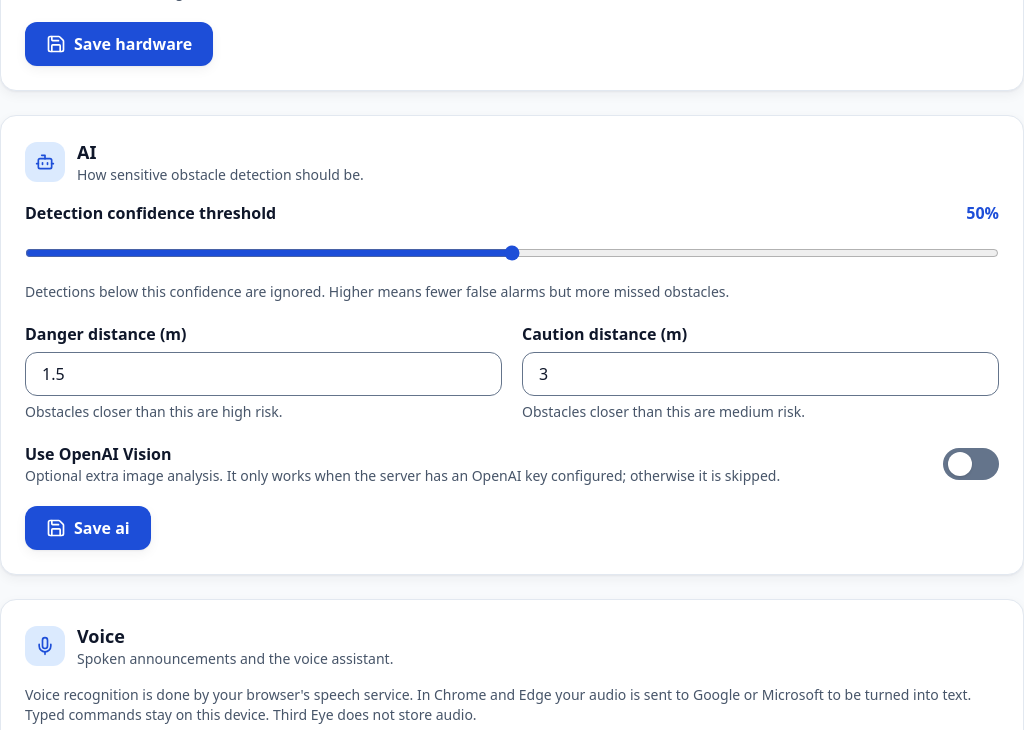
it: Settings page › ai: the rule and the message agree (danger 0.1 to 20 m, caution above danger)
(page scrolled)
Replace the text in the field labelled "Danger distance (m)" with "0.05" at (264, 374), box [25,352,502,396]
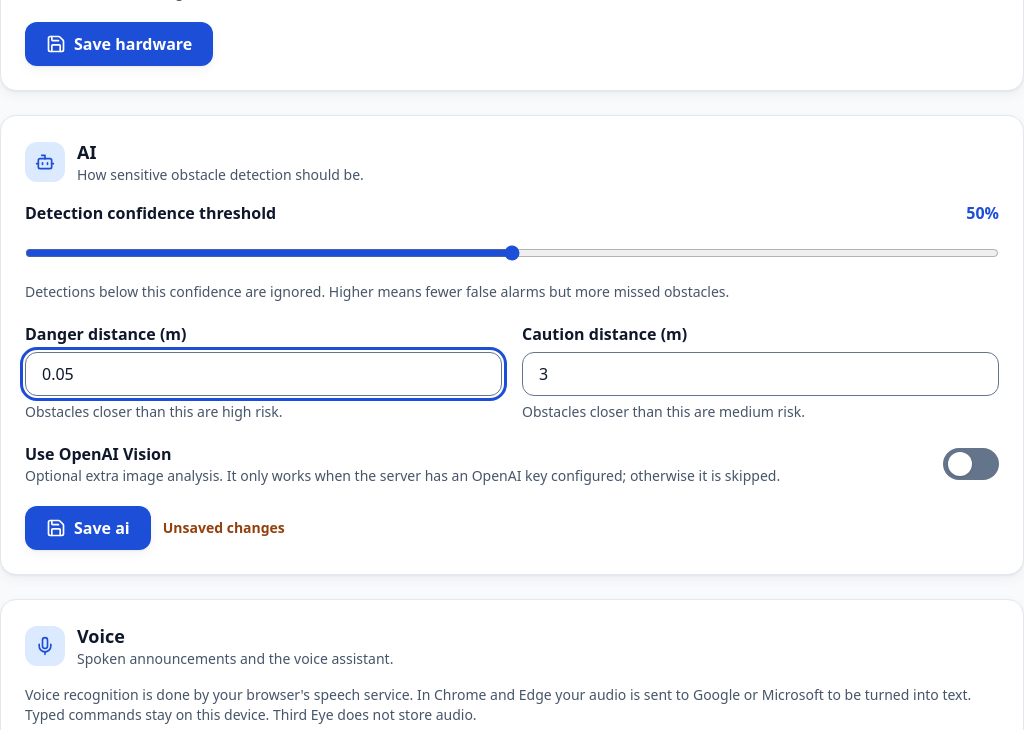
Click the button "Save ai" at (88, 528), box [25,506,151,550]
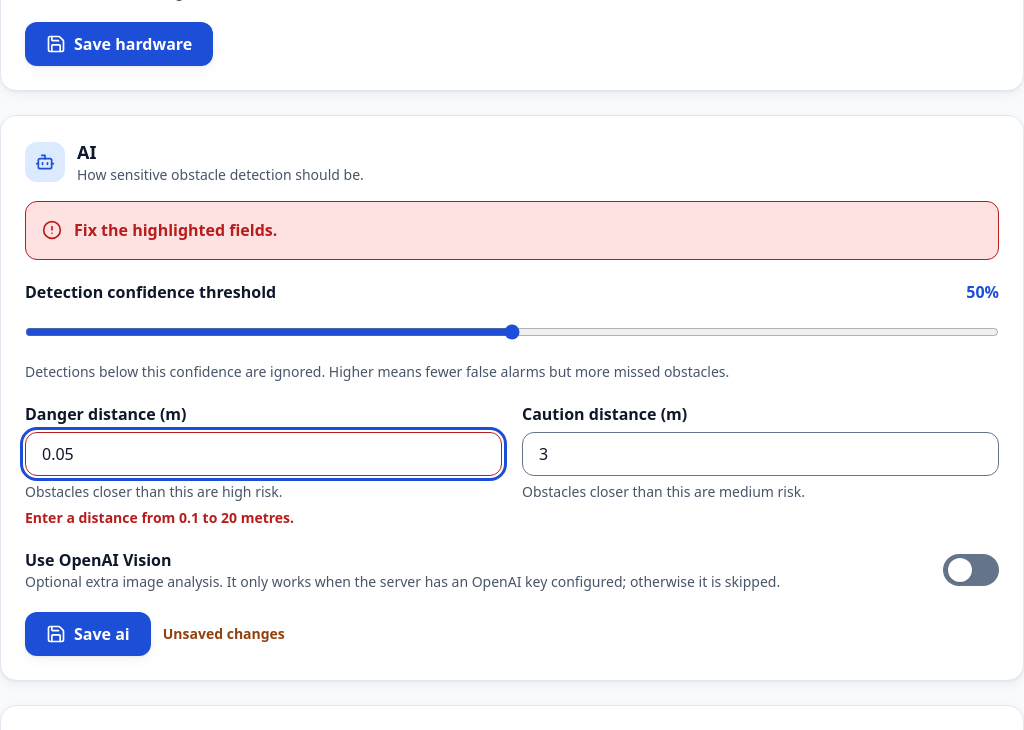
expect the text "Enter a distance from 0.1 to 20 metres." is shown: met, box [25,508,294,527]
Replace the text in the field labelled "Danger distance (m)" with "0.1" at (264, 454), box [25,432,502,476]
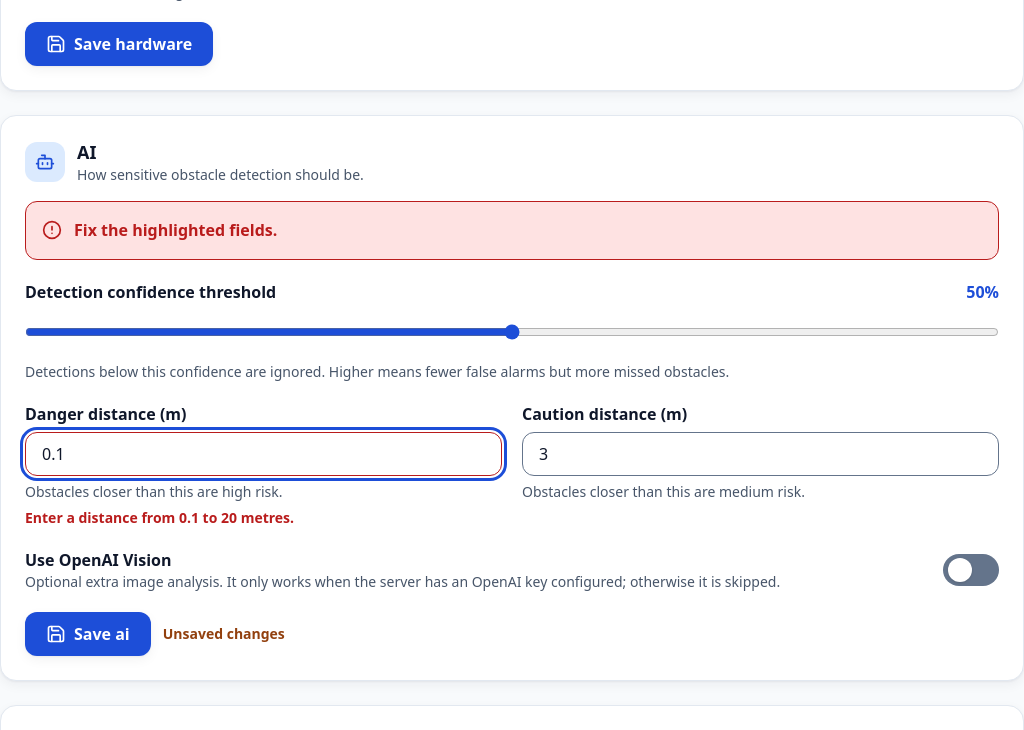
Click the button "Save ai" at (88, 634), box [25,612,151,656]
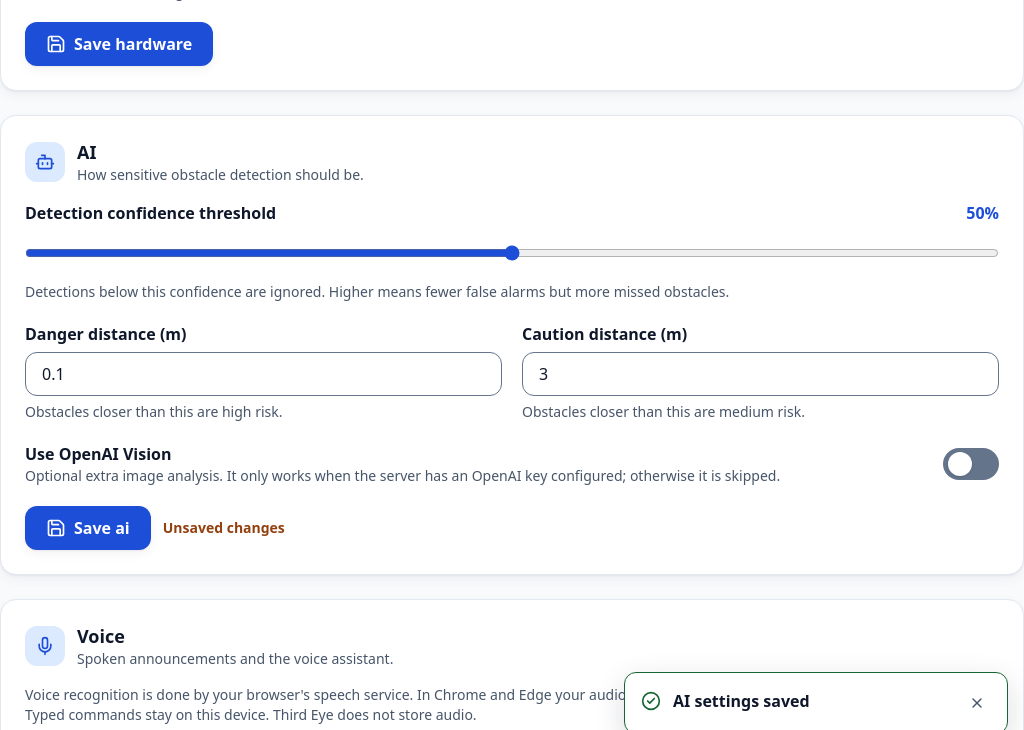
expect the text "AI settings saved" is shown: met, box [673,690,810,712]
